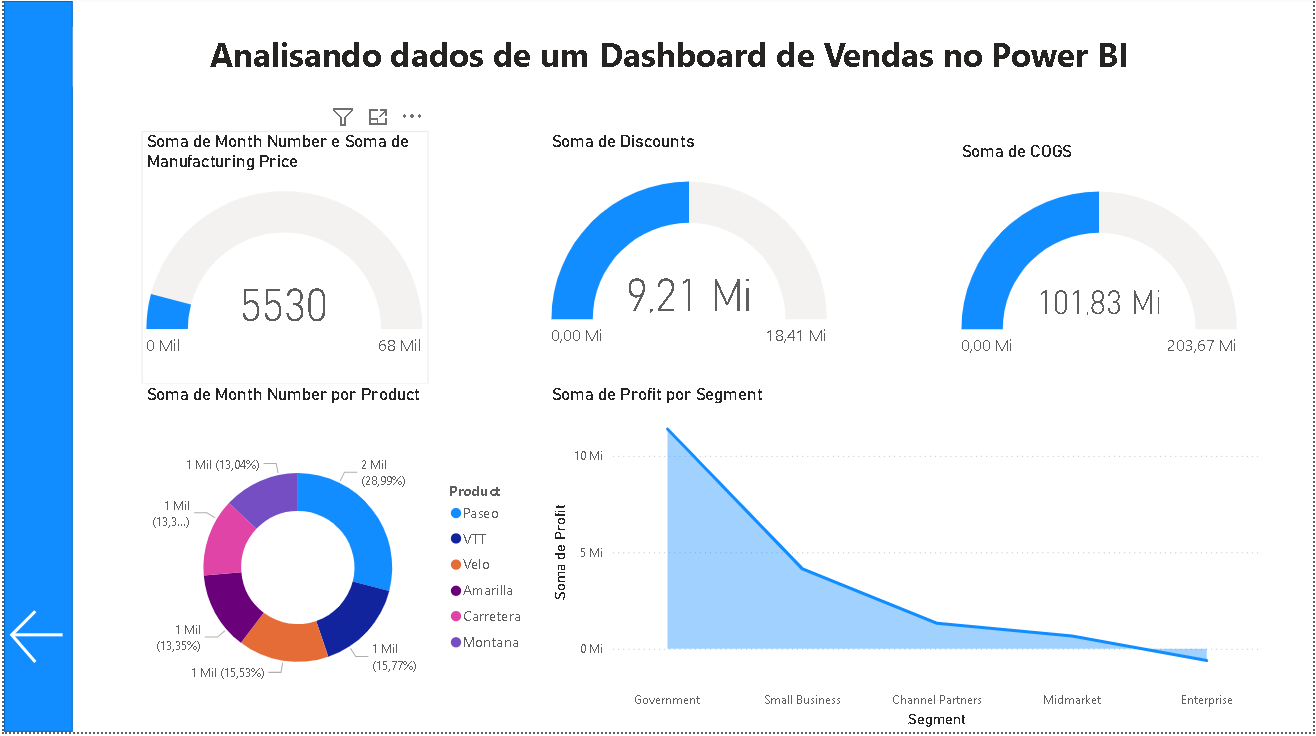

The dashboard page shown, as its layout file describes it:
{"tool":"powerbi","page":{"name":"Página 2","canvas":[1280,720],"ordinal":1},"visuals":[{"type":"gauge","fields":{"Y":["Sum(financials.Month Number)"],"MaxValue":["Sum(financials.Manufacturing Price)"]},"box":[134.5,132.1,280,247],"z":0},{"type":"shape","box":[0,5.1,67.2,714.9],"z":1000},{"type":"textbox","box":[67.2,30.2,1167.8,57.6],"z":2000},{"type":"actionButton","box":[0,594.3,67.3,64.8],"z":3000},{"type":"gauge","fields":{"Y":["Sum(financials.Discounts)"]},"box":[530.6,131.7,279.4,247.2],"z":4000},{"type":"gauge","fields":{"Y":["Sum(financials.COGS)"]},"box":[932.3,142.4,279.4,247.2],"z":5000},{"type":"donutChart","fields":{"Y":["Sum(financials.Month Number)"],"Category":["financials.Product"]},"box":[134.3,378.8,384.2,341.2],"z":6000},{"type":"stackedAreaChart","fields":{"Category":["financials.Segment"],"Y":["Sum(financials.Profit)"]},"box":[530.6,378.8,703.9,341.2],"z":6001}]}

Visuals, with their boxes in screenshot pixels (x1, y1, x2, y2), scaled from the page's 1280x720 canvas onto the 1316x736 screenshot:
gauge - Sum(financials.Month Number) x Sum(financials.Manufacturing Price): (138,135,426,388)
shape: (0,5,69,735)
textbox: (69,31,1270,90)
actionButton: (0,608,69,674)
gauge - Sum(financials.Discounts): (546,135,833,387)
gauge - Sum(financials.COGS): (959,146,1246,398)
donutChart - Sum(financials.Month Number) x financials.Product: (138,387,533,735)
stackedAreaChart - financials.Segment x Sum(financials.Profit): (546,387,1269,735)
